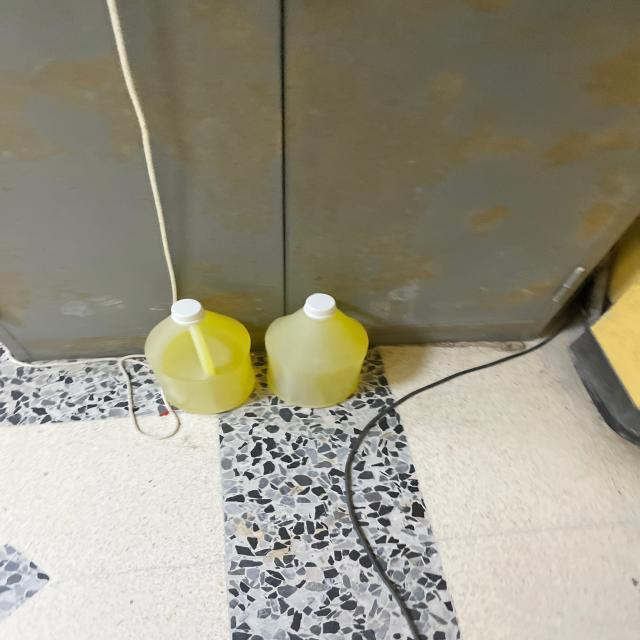HDPE Plastic: (135, 291, 257, 416), (258, 286, 368, 407)
